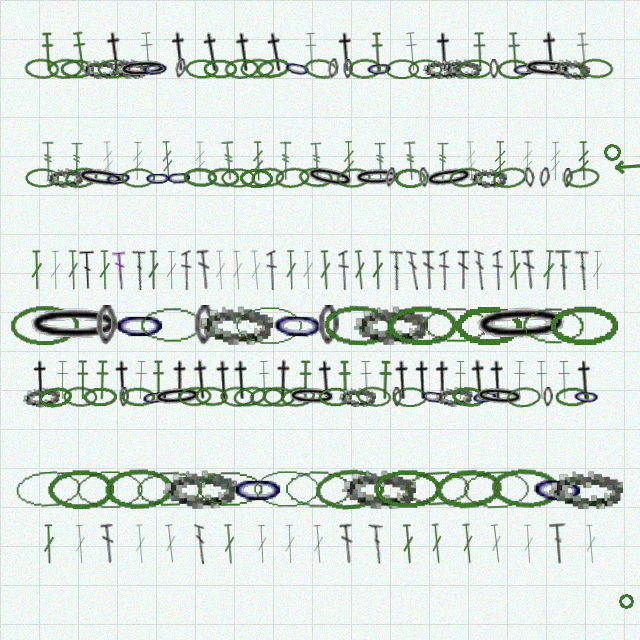chain: (471, 303, 572, 346), (25, 305, 125, 345), (13, 467, 84, 511), (314, 467, 385, 511), (490, 467, 562, 510), (434, 467, 504, 511), (199, 304, 273, 345), (354, 304, 428, 345), (163, 468, 237, 509), (342, 468, 416, 509), (402, 467, 472, 510), (323, 304, 394, 346), (461, 468, 532, 510), (549, 469, 623, 509), (134, 468, 204, 510), (283, 468, 353, 509), (104, 468, 173, 509), (10, 305, 80, 345), (387, 305, 457, 345), (75, 469, 145, 509), (234, 305, 303, 345), (421, 305, 490, 345), (549, 305, 618, 345), (195, 469, 264, 509), (252, 469, 321, 509), (454, 305, 522, 345), (373, 469, 441, 509), (138, 305, 205, 345), (520, 305, 587, 345), (47, 469, 114, 509), (529, 468, 587, 510), (270, 304, 327, 346), (112, 305, 168, 345), (230, 469, 286, 509), (304, 163, 356, 192), (423, 164, 475, 191), (75, 165, 127, 191), (522, 57, 573, 80), (152, 385, 203, 408), (474, 385, 525, 408), (118, 58, 168, 80), (353, 167, 403, 188), (287, 386, 337, 407), (552, 57, 591, 81), (22, 385, 61, 409), (491, 165, 528, 190), (255, 56, 291, 81), (63, 165, 99, 190), (232, 384, 268, 409), (564, 166, 601, 190), (46, 166, 84, 189), (435, 385, 473, 408), (303, 57, 339, 81), (37, 385, 73, 409), (280, 385, 316, 409), (274, 166, 311, 189), (96, 305, 117, 345), (194, 305, 215, 345), (318, 305, 339, 345), (250, 166, 286, 189), (448, 166, 484, 189), (356, 385, 392, 408), (298, 166, 333, 189), (451, 385, 486, 408), (249, 386, 285, 408), (111, 58, 148, 79), (444, 58, 481, 79), (282, 56, 313, 81), (336, 167, 371, 189), (506, 386, 541, 408), (24, 58, 60, 79), (578, 58, 614, 79), (82, 59, 119, 79), (423, 59, 460, 79), (470, 168, 507, 188), (339, 387, 376, 407), (224, 58, 259, 79), (194, 386, 229, 407), (140, 385, 170, 409), (48, 58, 82, 79), (240, 58, 274, 79), (183, 167, 217, 188), (63, 386, 97, 407), (178, 386, 212, 407), (220, 386, 254, 407), (262, 386, 296, 407), (408, 59, 443, 79), (458, 59, 493, 79), (348, 58, 381, 79), (207, 167, 240, 188), (419, 385, 449, 408), (470, 385, 500, 408), (60, 59, 94, 79), (97, 59, 131, 79), (185, 59, 219, 79), (203, 59, 237, 79), (385, 59, 419, 79), (497, 59, 531, 79), (25, 168, 59, 188), (121, 168, 155, 188), (221, 168, 255, 188), (239, 168, 273, 188), (83, 387, 117, 407), (121, 387, 155, 407), (318, 387, 352, 407), (393, 387, 427, 407), (555, 387, 589, 407), (394, 168, 427, 188), (511, 58, 540, 80), (104, 167, 133, 189), (141, 58, 170, 79), (365, 58, 394, 79), (572, 386, 601, 407), (165, 167, 193, 188), (144, 168, 172, 188), (174, 58, 187, 79), (384, 167, 397, 188), (523, 167, 536, 188), (538, 167, 551, 188), (327, 58, 339, 79), (418, 167, 430, 188), (562, 168, 573, 188), (343, 59, 353, 79), (489, 59, 499, 79), (119, 387, 129, 407), (392, 387, 402, 407), (543, 387, 553, 407)
double: (549, 523, 568, 564), (368, 523, 386, 564), (555, 250, 573, 290), (196, 249, 213, 290), (521, 249, 538, 290), (100, 523, 117, 564), (162, 523, 179, 564), (339, 523, 356, 564), (488, 523, 505, 564), (79, 250, 96, 290), (221, 524, 238, 564), (429, 523, 445, 564), (460, 523, 476, 564), (112, 250, 128, 290), (248, 250, 264, 290), (352, 250, 368, 290), (507, 250, 523, 290), (574, 250, 590, 290), (400, 524, 416, 564), (583, 524, 599, 564), (131, 250, 146, 290), (213, 250, 228, 290), (230, 250, 245, 290), (318, 250, 333, 290), (388, 250, 403, 290), (406, 250, 421, 290), (541, 250, 556, 290), (73, 524, 88, 564), (133, 524, 148, 564), (311, 524, 326, 564), (521, 524, 536, 564), (66, 250, 80, 290), (284, 250, 298, 290), (301, 250, 315, 290), (422, 250, 436, 290), (42, 524, 56, 564), (255, 524, 269, 564), (283, 524, 297, 564), (30, 250, 43, 290), (49, 250, 62, 290), (98, 250, 111, 290), (147, 250, 160, 290), (165, 250, 178, 290), (371, 250, 384, 290), (457, 250, 470, 290), (591, 250, 604, 290), (194, 524, 207, 564), (266, 250, 278, 290), (338, 250, 350, 290), (474, 250, 486, 290), (492, 250, 504, 290), (181, 250, 192, 290), (439, 250, 450, 290)
half_double: (198, 31, 226, 73), (262, 31, 290, 73), (231, 31, 257, 73), (102, 31, 128, 72), (167, 31, 192, 72), (538, 31, 563, 72), (189, 359, 214, 400), (271, 359, 296, 400), (467, 359, 491, 400), (334, 32, 358, 72), (432, 32, 456, 72), (168, 360, 192, 400), (314, 360, 338, 400), (573, 360, 597, 400), (29, 360, 52, 400), (111, 360, 134, 400), (212, 360, 235, 400), (230, 360, 253, 400), (391, 360, 414, 400), (411, 360, 434, 400), (431, 360, 454, 400), (486, 360, 509, 400), (70, 31, 90, 72), (138, 31, 156, 72), (403, 31, 421, 72), (574, 31, 592, 72), (39, 32, 56, 72), (369, 32, 386, 72), (471, 32, 488, 72), (506, 32, 523, 72), (303, 32, 319, 72), (94, 360, 110, 400), (133, 360, 149, 400), (256, 360, 272, 400), (337, 360, 353, 400), (358, 360, 374, 400), (377, 360, 393, 400), (556, 360, 572, 400), (55, 360, 70, 400), (75, 360, 90, 400), (151, 360, 166, 400), (298, 360, 313, 400), (453, 360, 468, 400), (512, 360, 527, 400), (534, 360, 549, 400)
noise: (612, 158, 640, 175), (602, 142, 623, 163), (616, 591, 636, 611)
treble: (220, 140, 238, 181), (100, 141, 116, 181), (309, 141, 325, 181), (160, 141, 175, 181), (373, 141, 388, 181), (403, 141, 418, 181), (41, 141, 55, 181), (70, 141, 84, 181), (193, 141, 207, 181), (251, 141, 265, 181), (342, 141, 356, 181), (436, 141, 450, 181), (464, 141, 478, 181), (493, 141, 507, 181), (131, 141, 144, 181), (279, 141, 292, 181), (521, 141, 534, 181), (549, 141, 562, 181), (577, 141, 590, 181)
